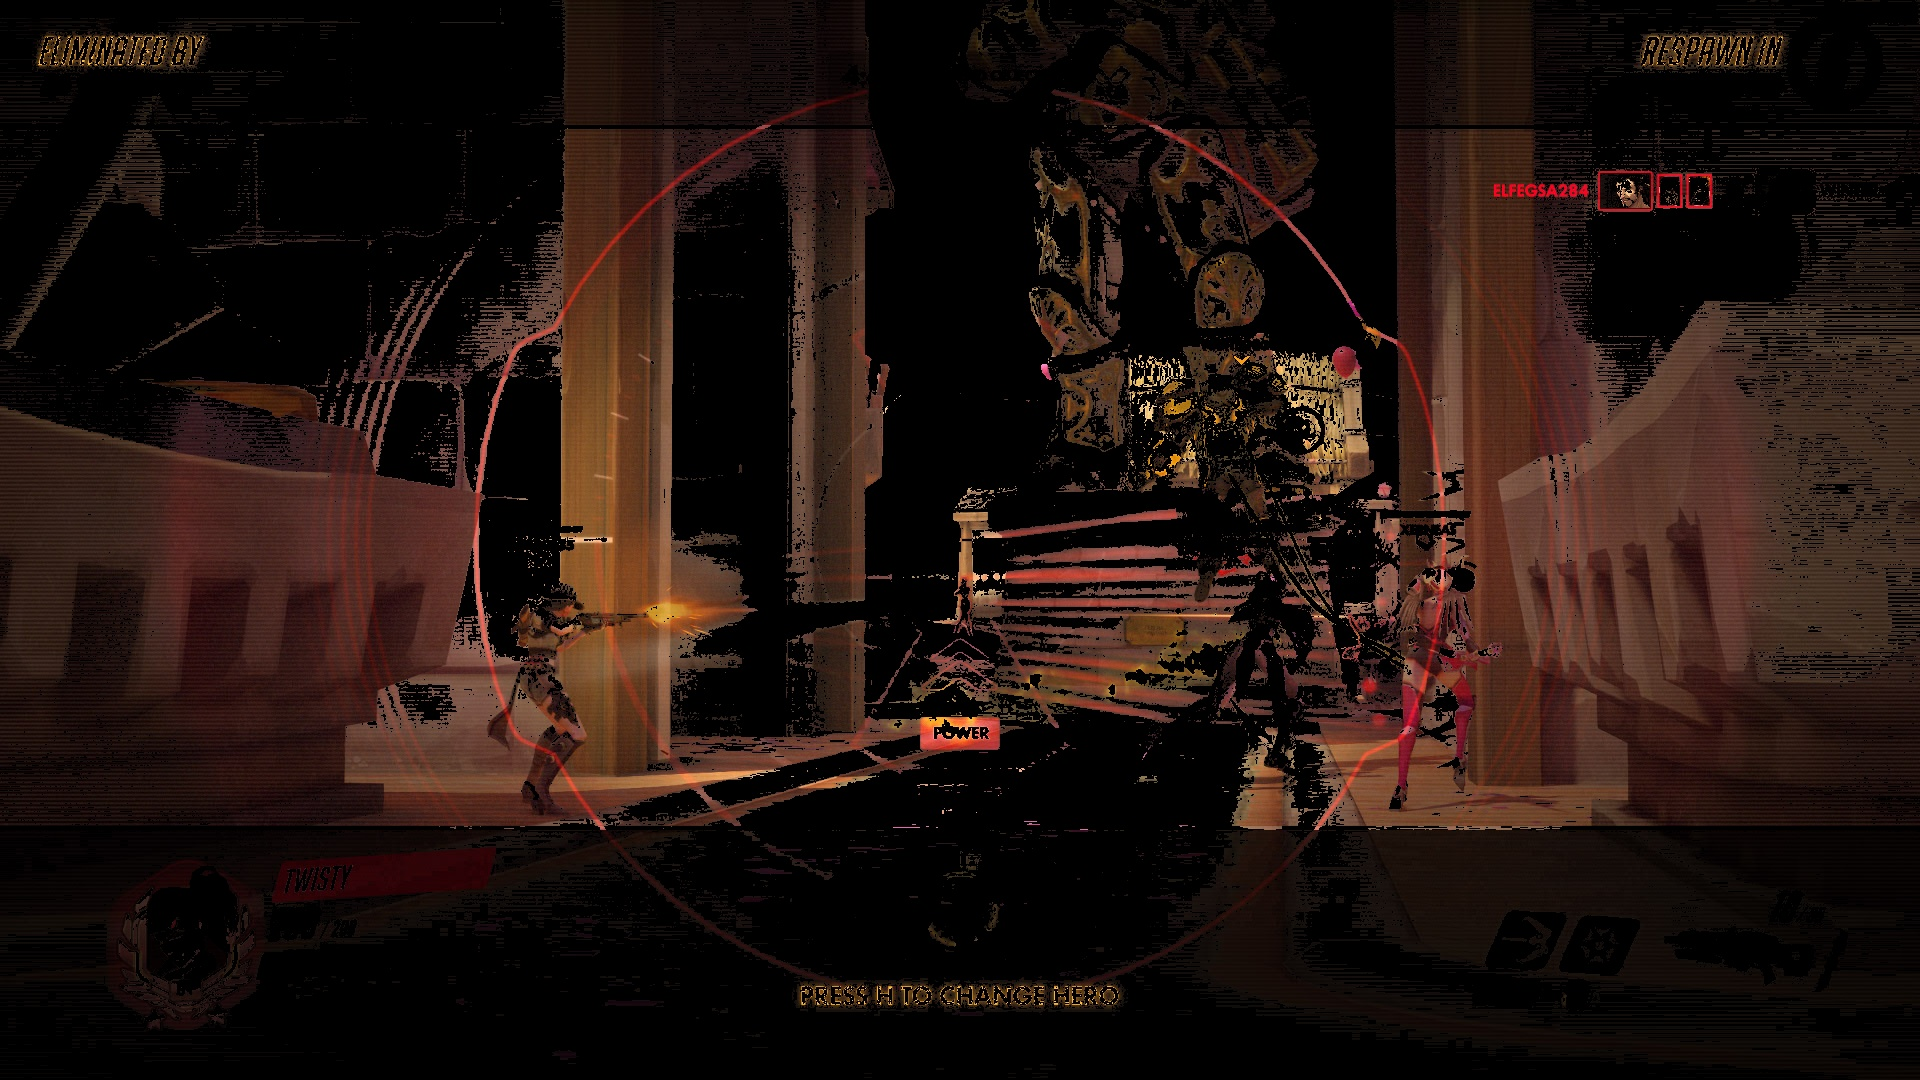widowmaker: (951, 575, 978, 638)
